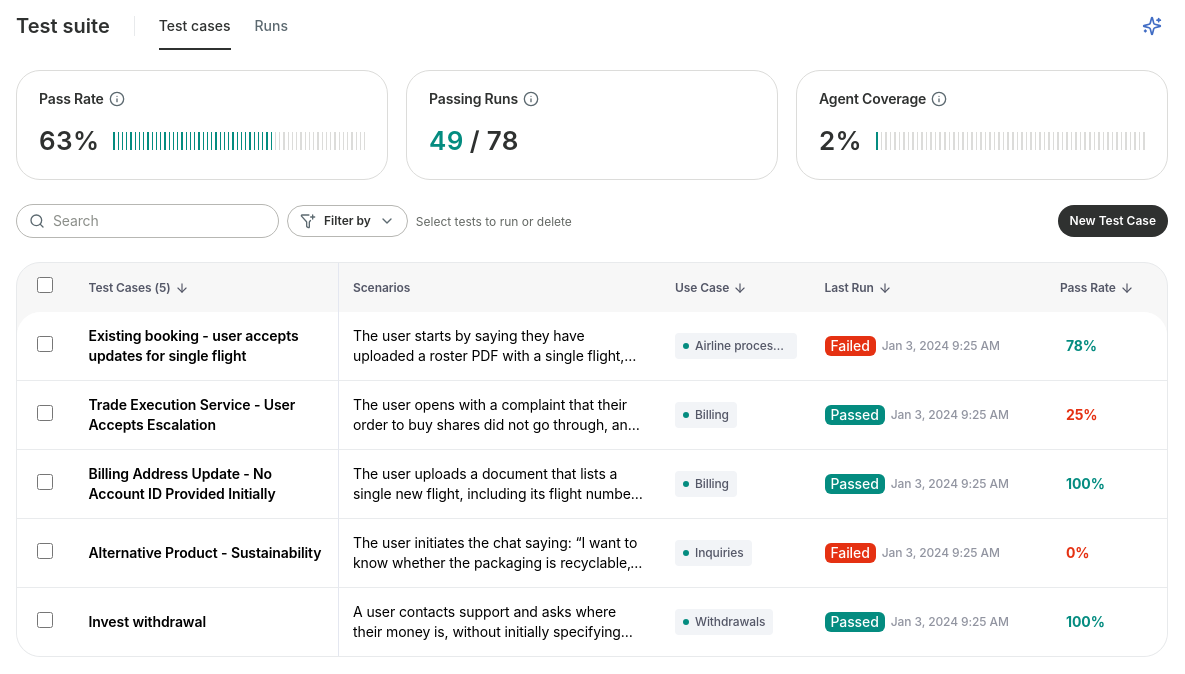
Test: TestSuiteView › reports the selection count as rows are checked
Click the checkbox named "Select Existing booking - user accepts updates for single fl" at point(45, 344), box x1=37 y1=336 x2=53 y2=352
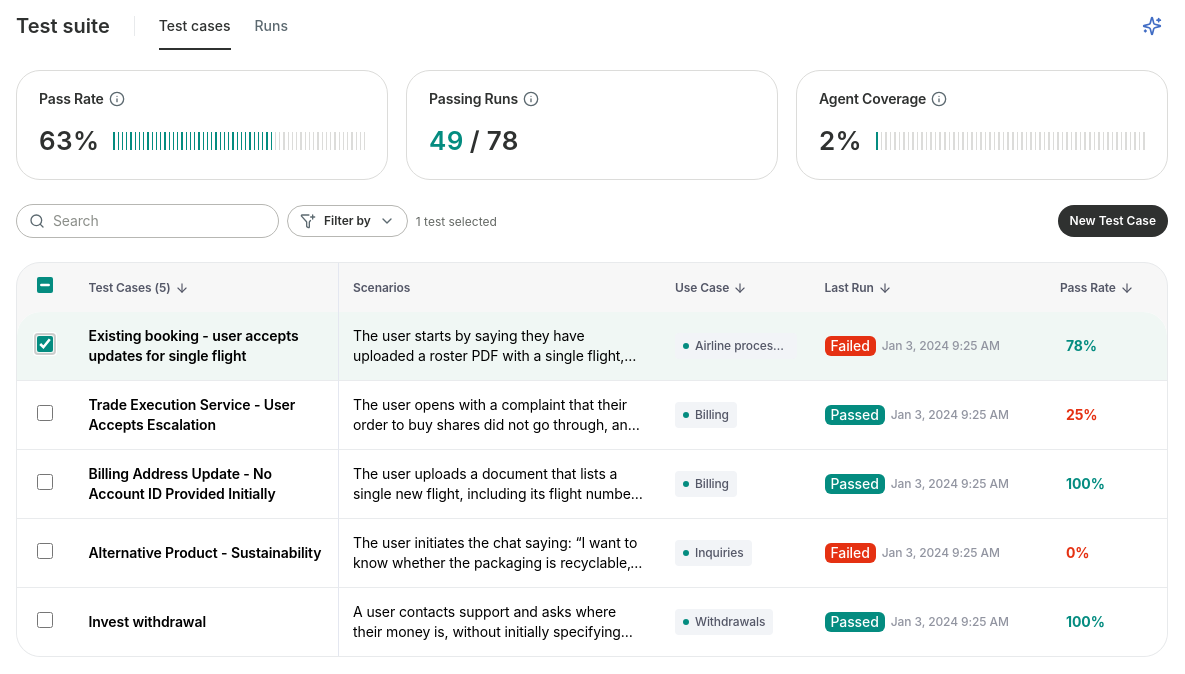
Check: the text "1 test selected" is shown, box x1=416 y1=212 x2=497 y2=230
Click the checkbox named "Select Trade Execution Service - User Accepts Escalation" at point(45, 412), box x1=37 y1=404 x2=53 y2=420
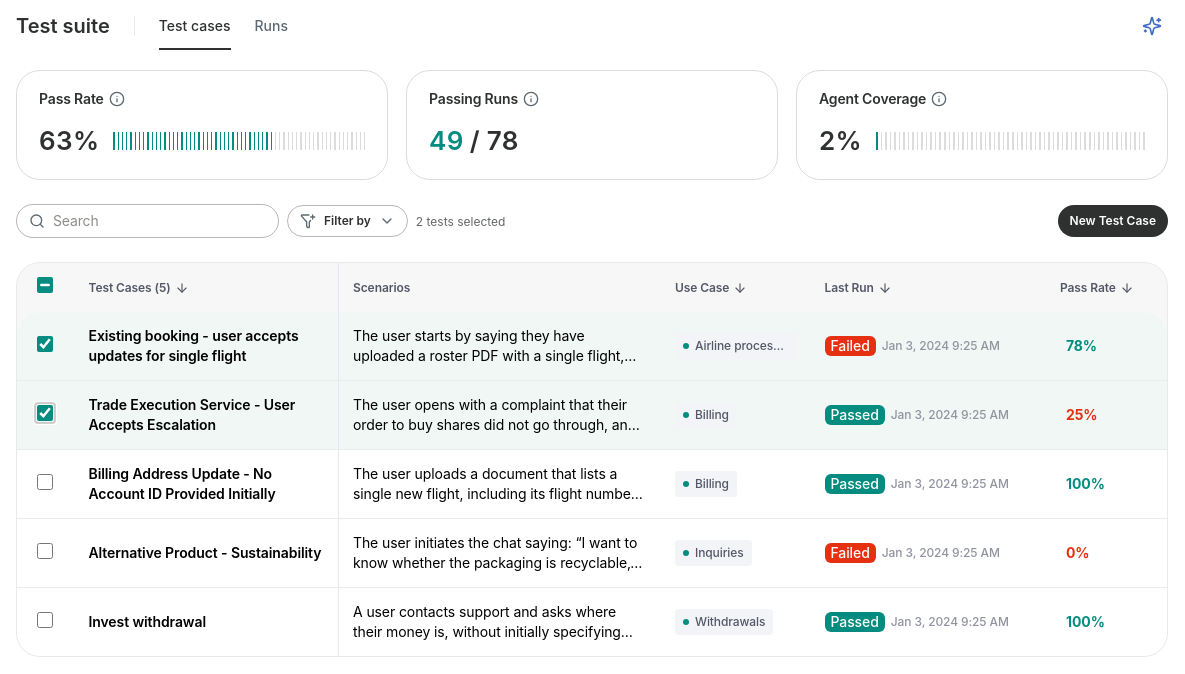
Check: the text "2 tests selected" is shown, box x1=416 y1=212 x2=505 y2=230
Unchecking the last one returns the hint to its resting copy.
Click the checkbox named "Select Trade Execution Service - User Accepts Escalation" at point(45, 412), box x1=37 y1=404 x2=53 y2=420
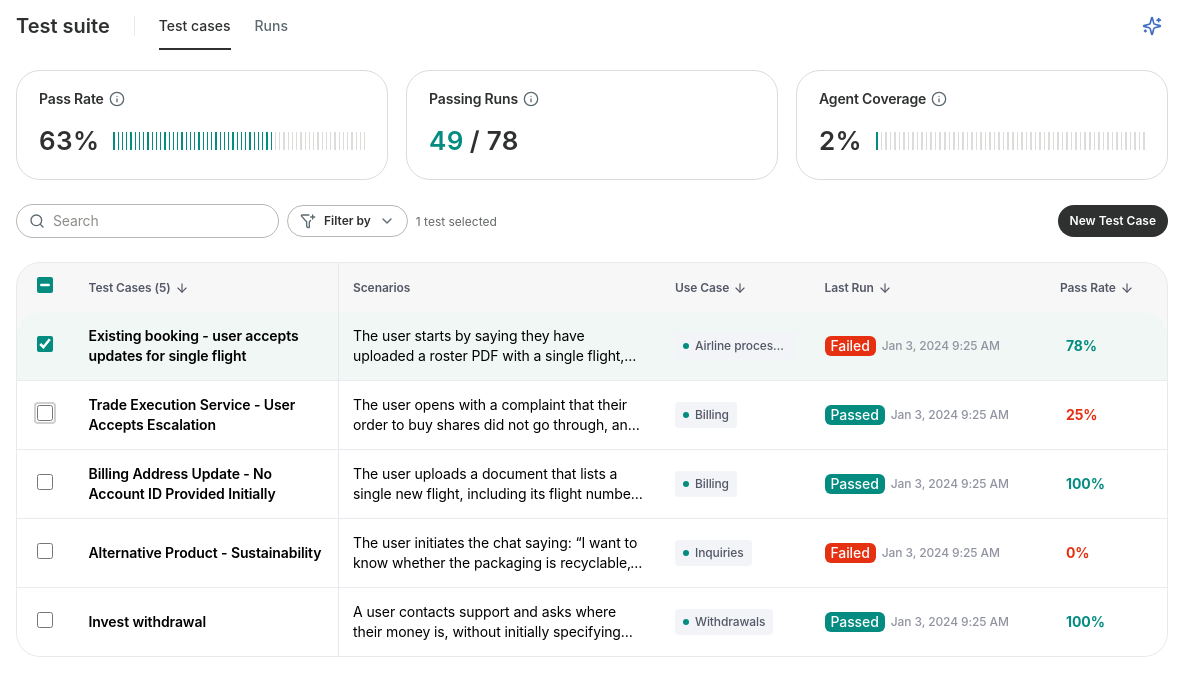
Click the checkbox named "Select Existing booking - user accepts updates for single fl" at point(45, 344), box x1=37 y1=336 x2=53 y2=352
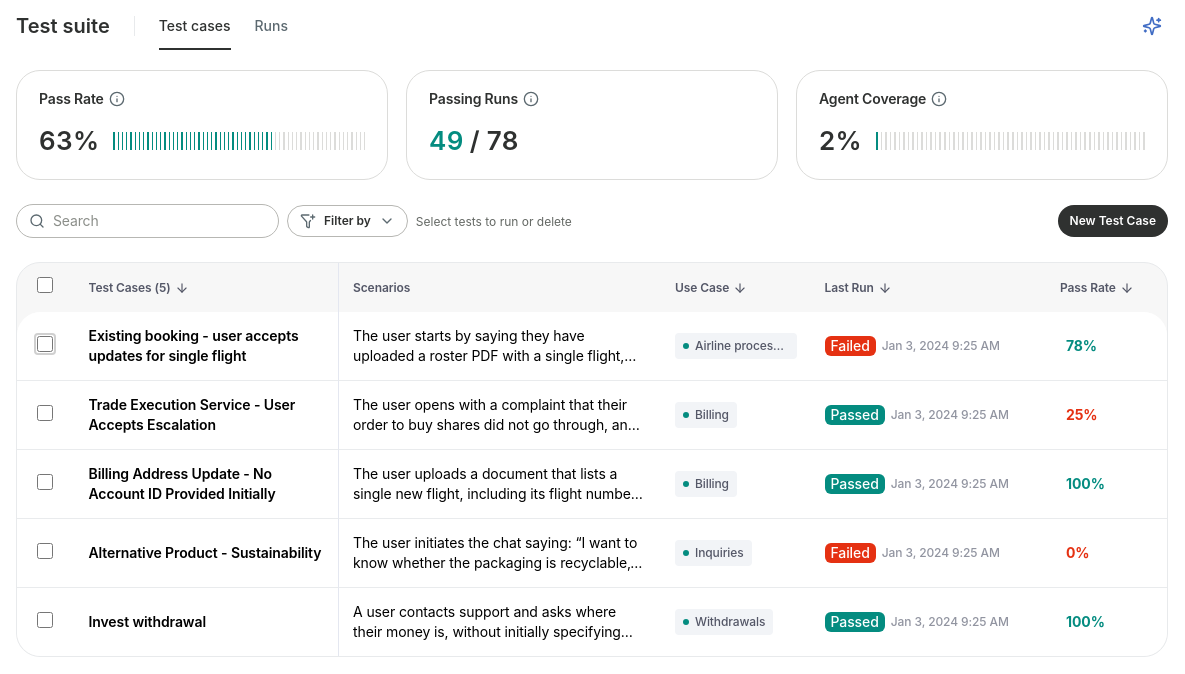
Check: the text "Select tests to run or delete" is shown, box x1=416 y1=212 x2=572 y2=230
